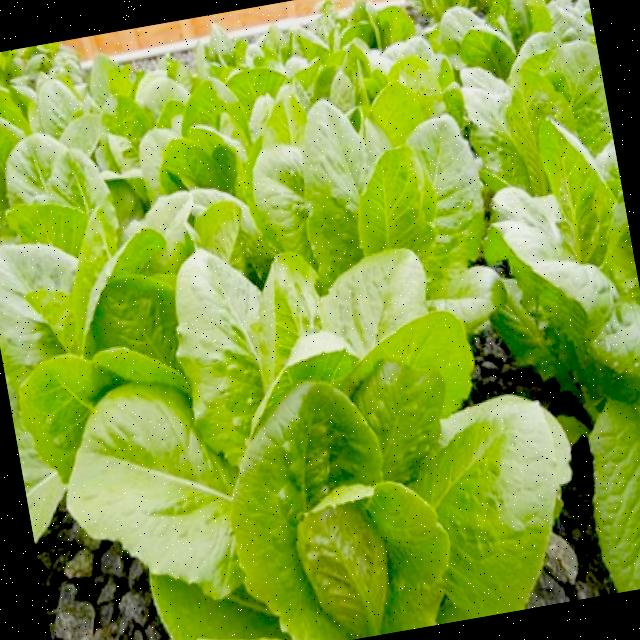healthy: (120, 230, 548, 640), (109, 39, 477, 268), (489, 131, 640, 592)
